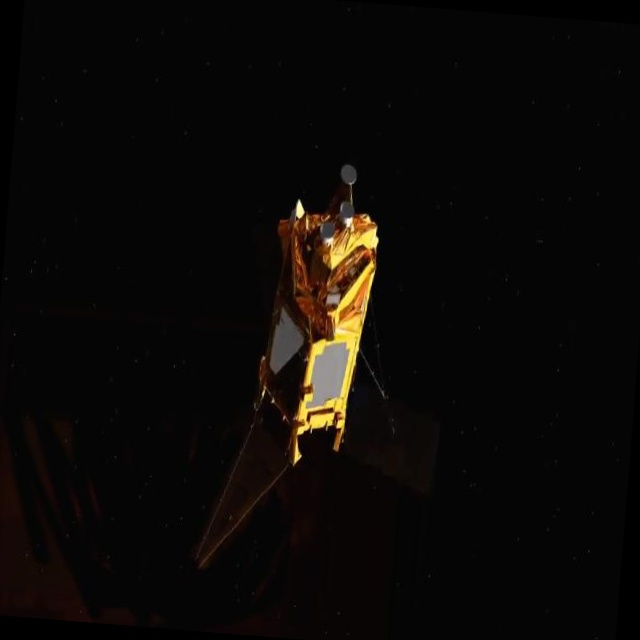medium_debris: (209, 108, 404, 532)
